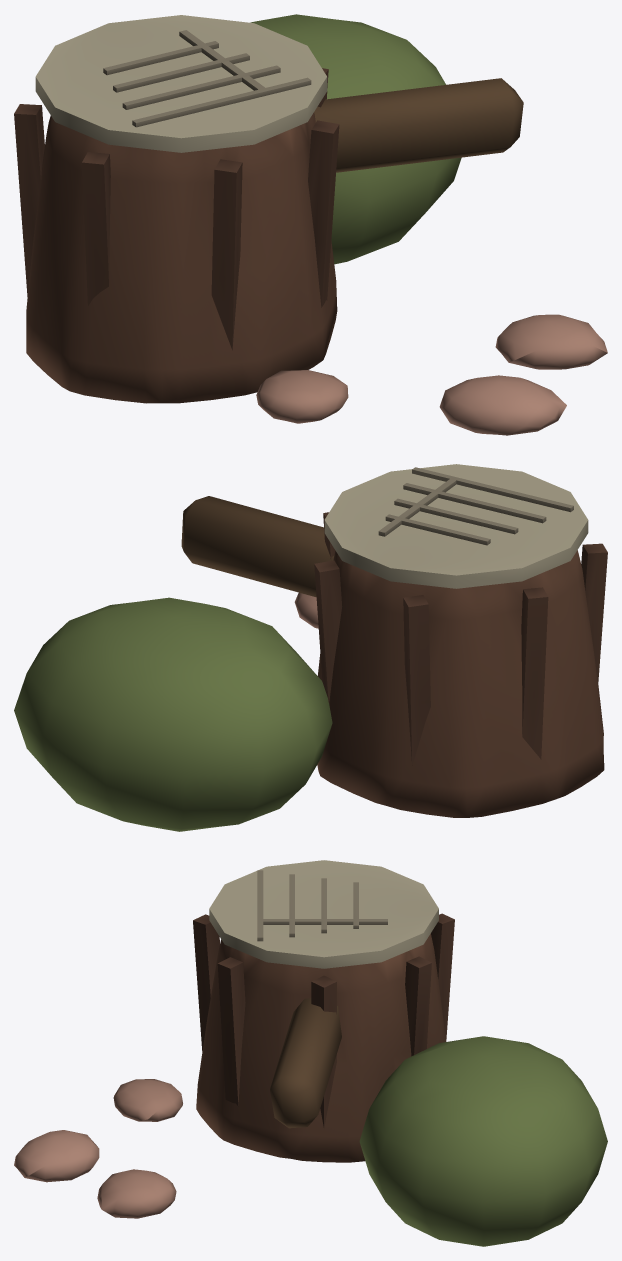
File: chart_post_c.glb
The picture shows the model from 3 angles, top to bottom: view 1: azimuth 30°, elevation 25°; view 2: azimuth 150°, elevation 25°; view 3: azimuth 270°, elevation 25°; orthographic projection. The views are drawn at different scales.
Visible parts, largest first — view 1: Surface; view 2: Surface; view 3: Surface.
Boxes of the visible parts, <box> form: Surface: <box>14,14,607,435</box>; Surface: <box>14,464,607,831</box>; Surface: <box>14,860,607,1246</box>.
Bounding box in the file's own units: 1.44 × 0.835 × 1.86.
